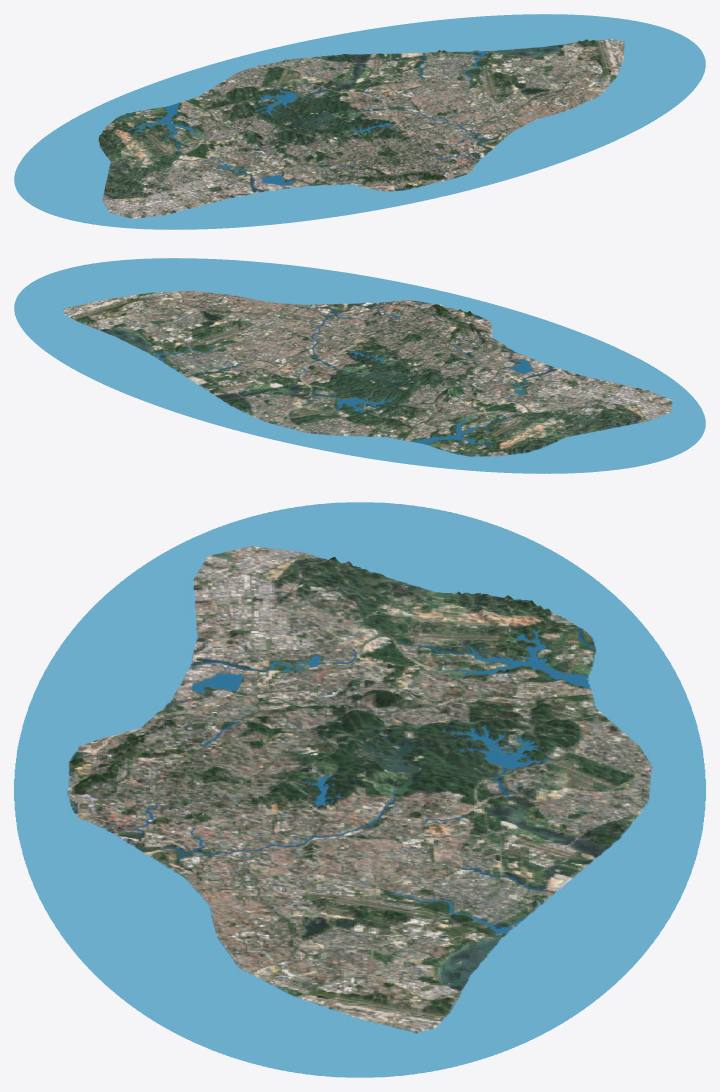
The model's file is SGP-previa-terrain.glb.
The picture shows the model from 3 angles, top to bottom: view 1: azimuth 30°, elevation 25°; view 2: azimuth 150°, elevation 25°; view 3: azimuth 270°, elevation 25°; orthographic projection. The views are drawn at different scales.
Visible parts, largest first — view 1: Singapura; view 2: Singapura; view 3: Singapura.
Part boxes in pixels (box(x1,y1,x2,y2)): Singapura: box(14, 14, 705, 229); Singapura: box(14, 258, 705, 473); Singapura: box(14, 502, 705, 1077).
Size of the model in its own units: 2.08 by 0.035 by 1.06.
Materials: 1 (1 with a texture image).
